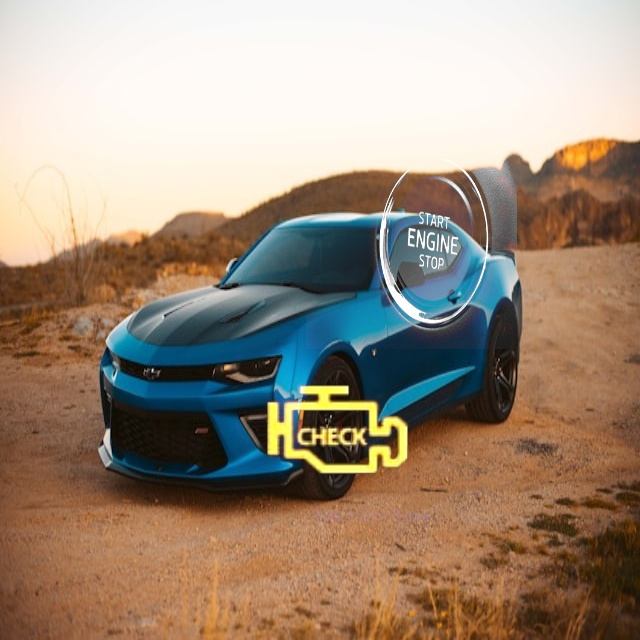symbol: (306, 138, 517, 349), (235, 329, 438, 532), (77, 65, 215, 203)
